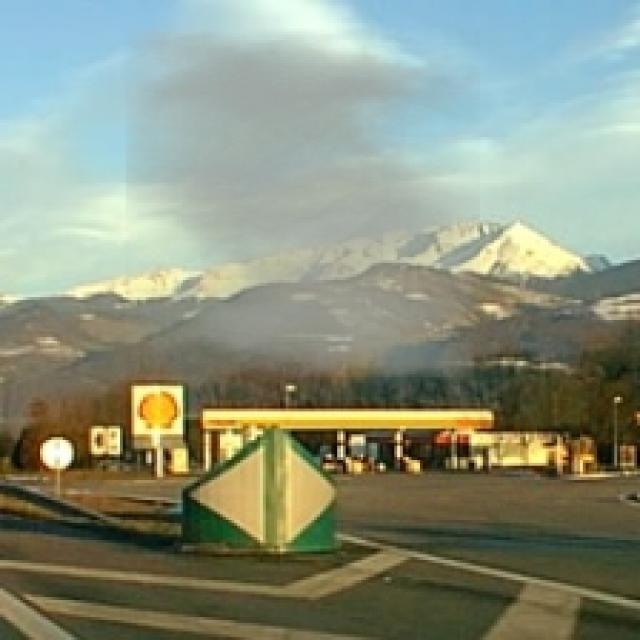smoke: (126, 29, 480, 377)
